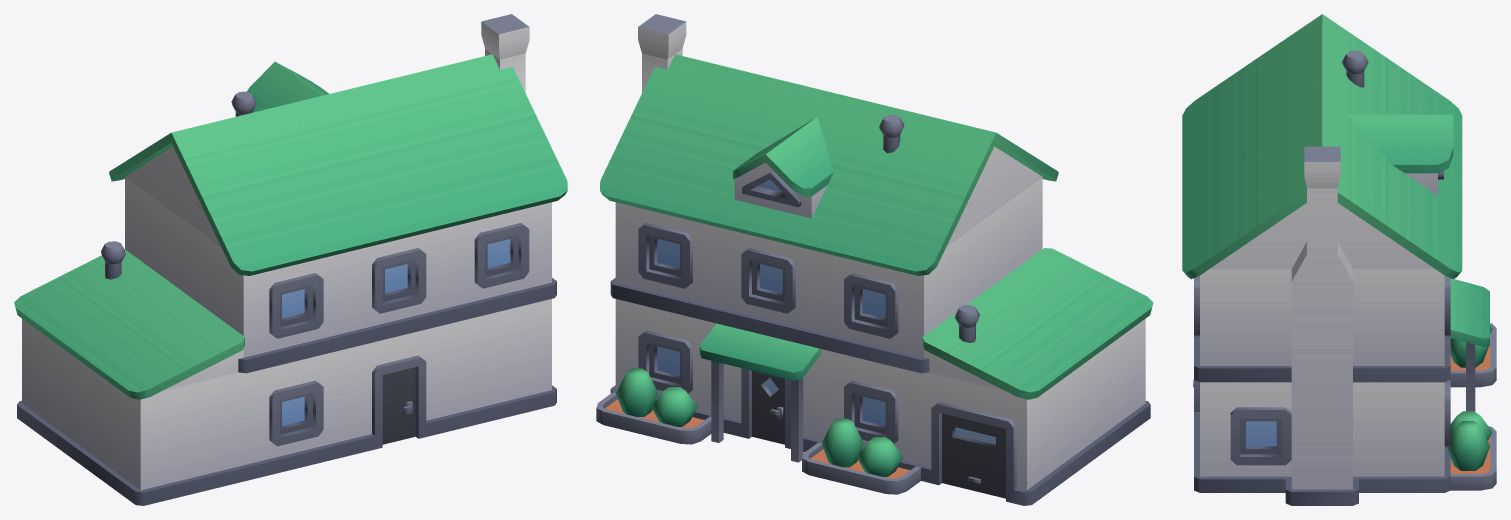
The model's file is building-type-d.draco.glb.
3 renders of one model, left to right at view 1: azimuth 30°, elevation 25°; view 2: azimuth 150°, elevation 25°; view 3: azimuth 270°, elevation 25°, orthographic. The views are drawn at different scales.
Visible parts, largest first — view 1: building-type-d; view 2: building-type-d; view 3: building-type-d.
Part boxes in pixels (box(x1,y1,x2,y2)): building-type-d: box(14, 14, 567, 505); building-type-d: box(596, 14, 1153, 505); building-type-d: box(1182, 14, 1496, 505).
Size of the model in its own units: 1.76 by 1.24 by 1.03.
1 material, 1 textured.
